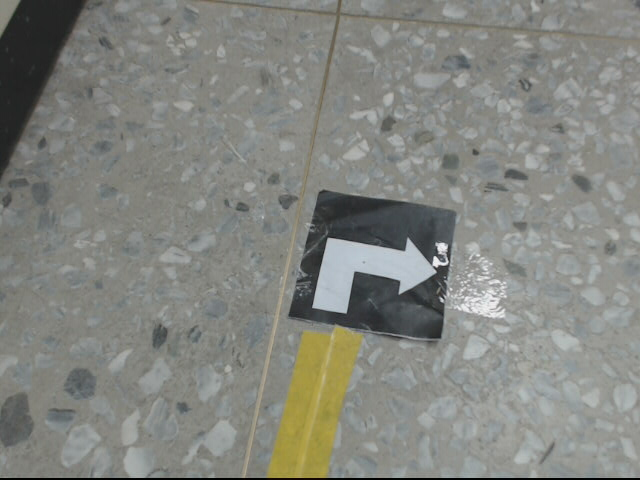right: (289, 188, 456, 342)
